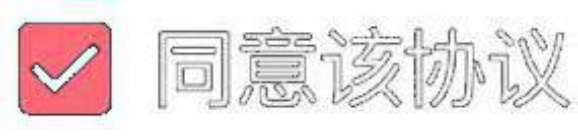CheckBox: (1, 1, 577, 139)
